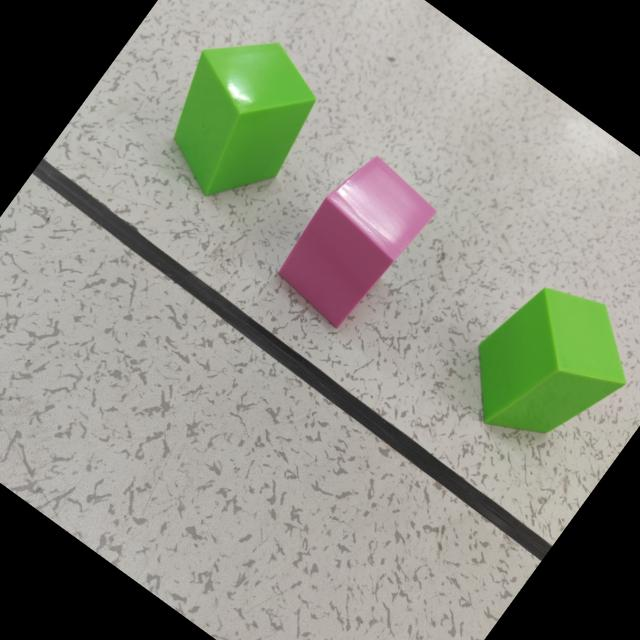green: (475, 287, 626, 436), (172, 43, 315, 197)
pink: (276, 157, 434, 329)
